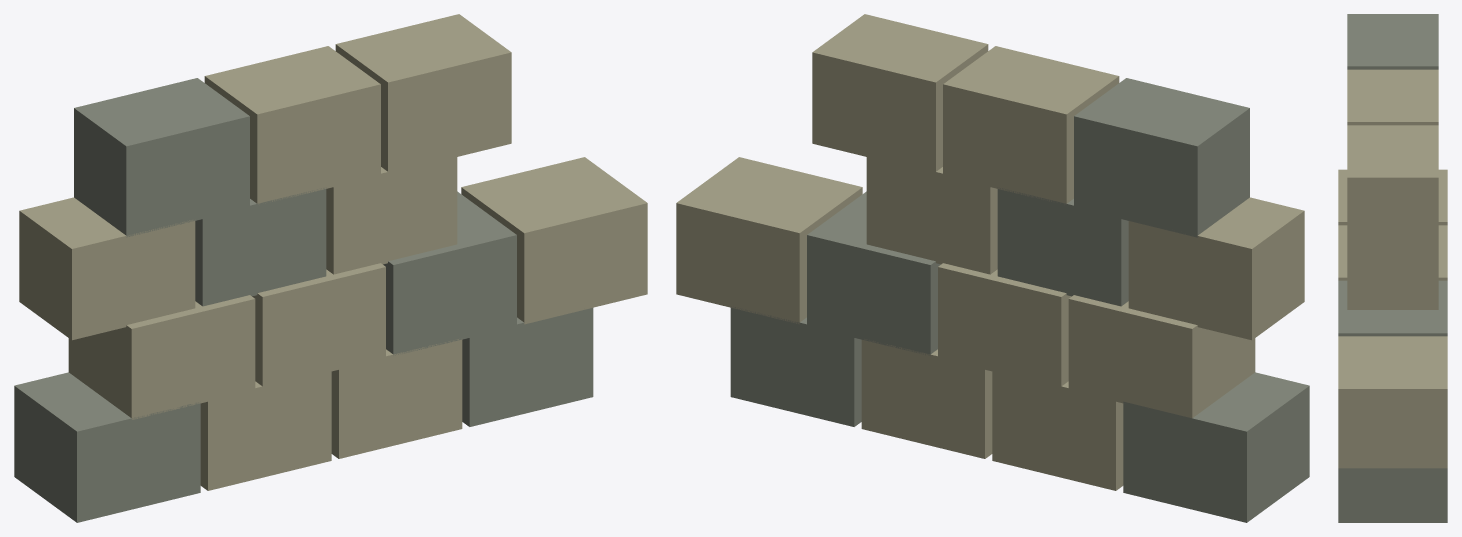
File: qc_stone_wall_fragment.obj
3 renders of one model, left to right at view 1: azimuth 30°, elevation 25°; view 2: azimuth 150°, elevation 25°; view 3: azimuth 270°, elevation 25°, orthographic. The views are drawn at different scales.
Visible parts, largest first — view 1: qc_stone_wall_fragment; view 2: qc_stone_wall_fragment; view 3: qc_stone_wall_fragment.
Boxes of the visible parts, bbox=[...] form: qc_stone_wall_fragment: bbox=[14, 14, 647, 522]; qc_stone_wall_fragment: bbox=[676, 14, 1309, 522]; qc_stone_wall_fragment: bbox=[1338, 14, 1447, 522].
Size of the model in its own units: 1.57 by 0.945 by 0.3.
